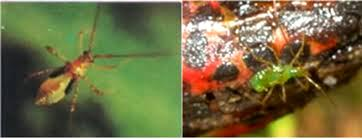Helopeltis-insect: (33, 50, 92, 105), (247, 60, 311, 94)
